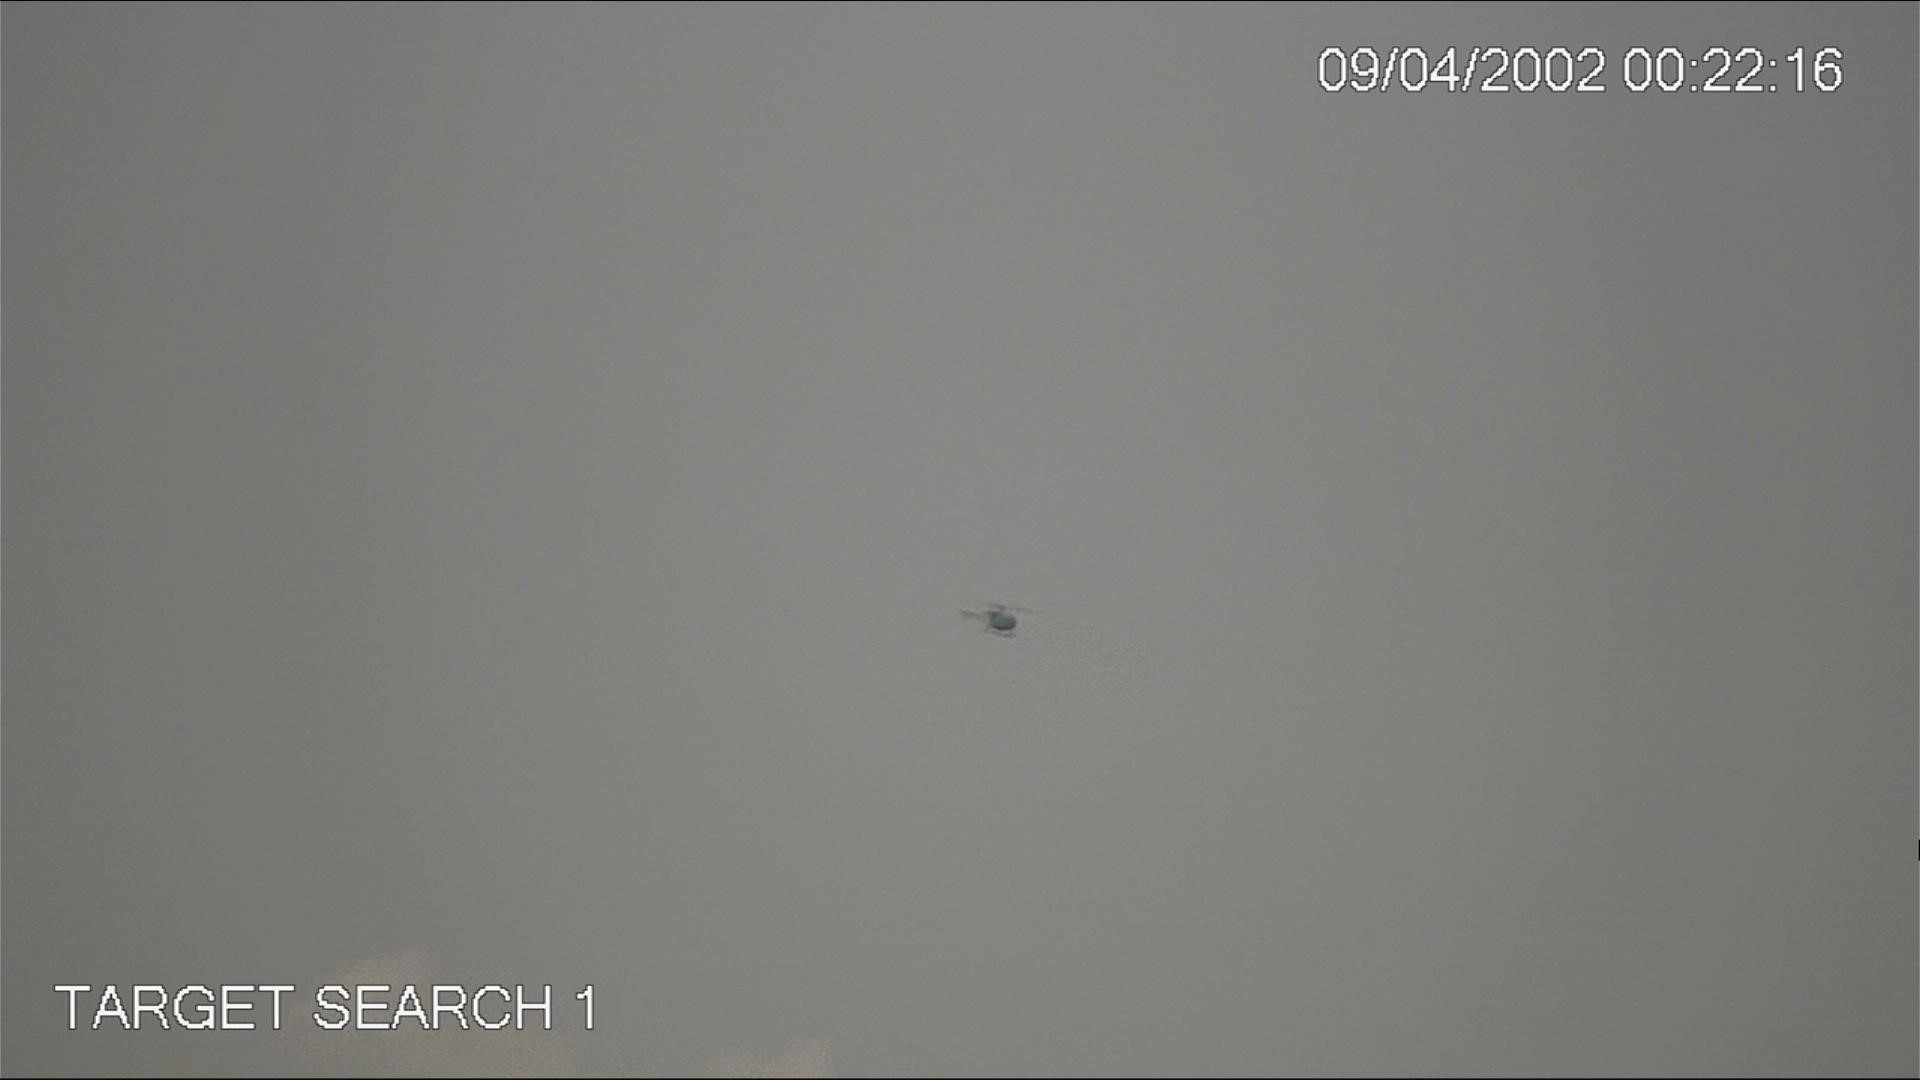SU_30: (959, 597, 1026, 641)
